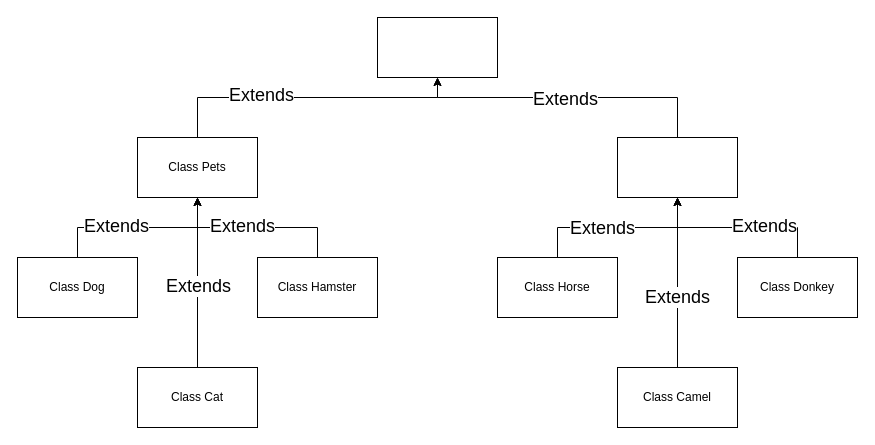
Some shapes in this 875 by 445 pixel diagram are drawn without their labels. The box of each missing label's shape, as (x1, y1, x2, y2) in pixels:
Class Animals: (376, 16, 498, 78)
Class PackAnimals: (616, 136, 738, 198)
